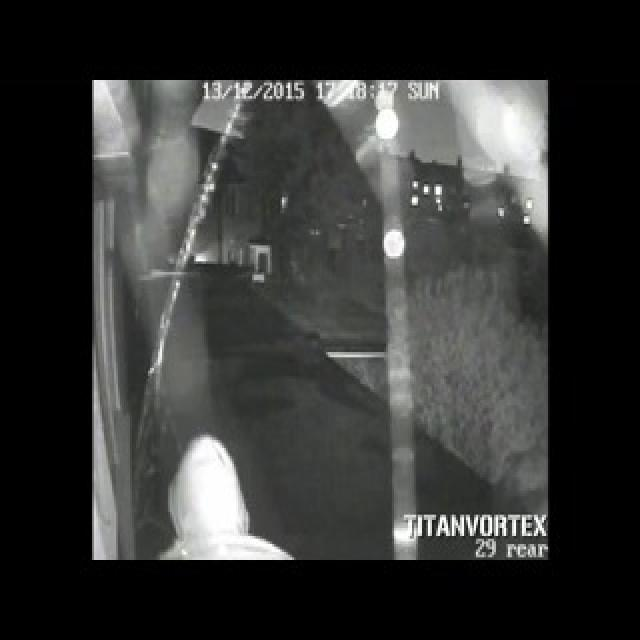thief: (164, 432, 256, 560)
